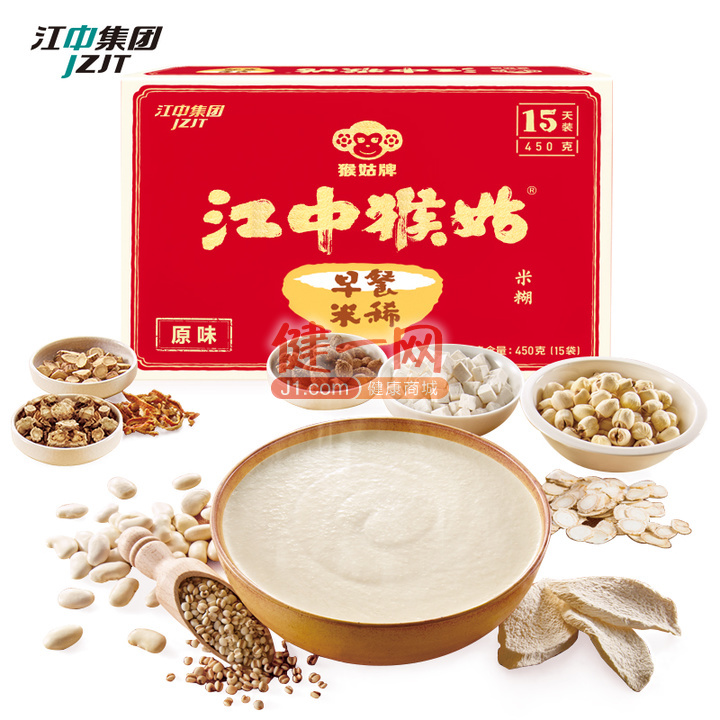box: (125, 65, 607, 370)
